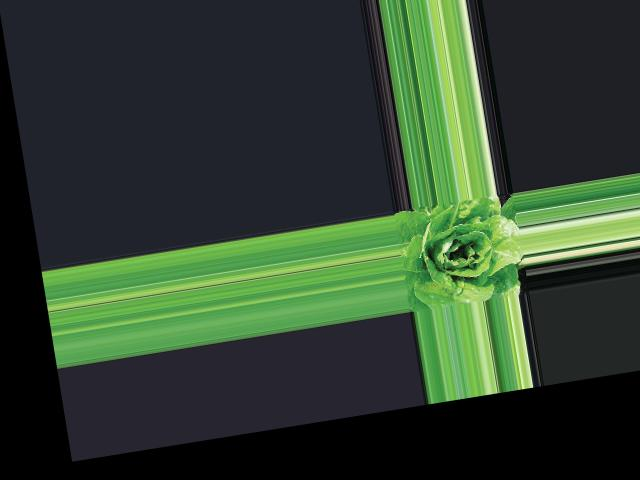lettuce: (395, 192, 523, 309)
